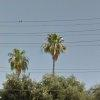Palm tree: (9, 36, 80, 80)
